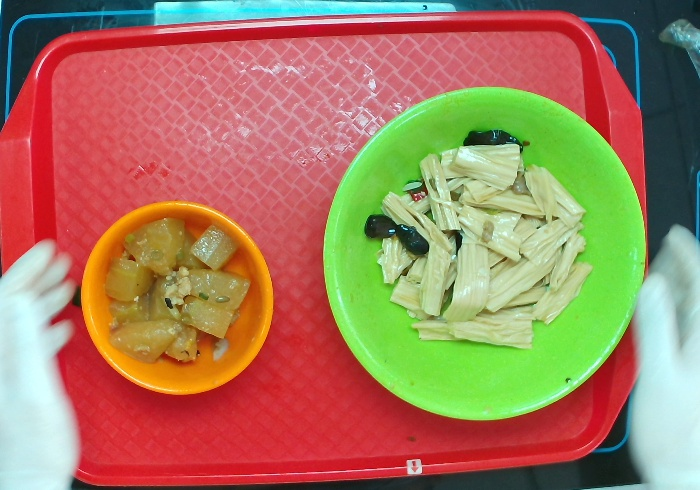YKMZ-Ju_Se_Yuan_Wan: (78, 198, 275, 395)
YKMZ-Lv_Se_Tang_Wan: (316, 78, 656, 421)
